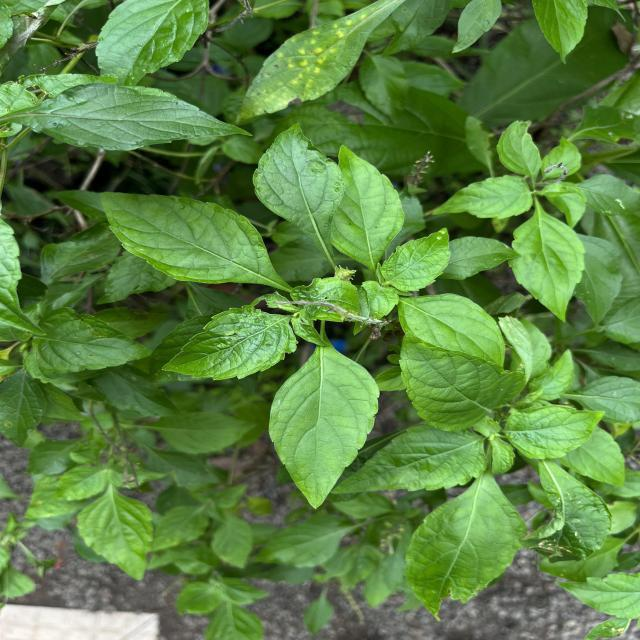Ocimum gratissimum: (267, 326, 382, 510), (97, 189, 290, 292), (401, 472, 530, 624), (0, 81, 254, 153), (250, 120, 350, 269), (398, 330, 528, 434), (328, 424, 489, 496), (158, 302, 300, 382), (93, 0, 211, 88), (329, 142, 407, 275), (508, 205, 586, 325), (395, 291, 508, 372), (503, 403, 608, 461), (378, 224, 454, 294)
